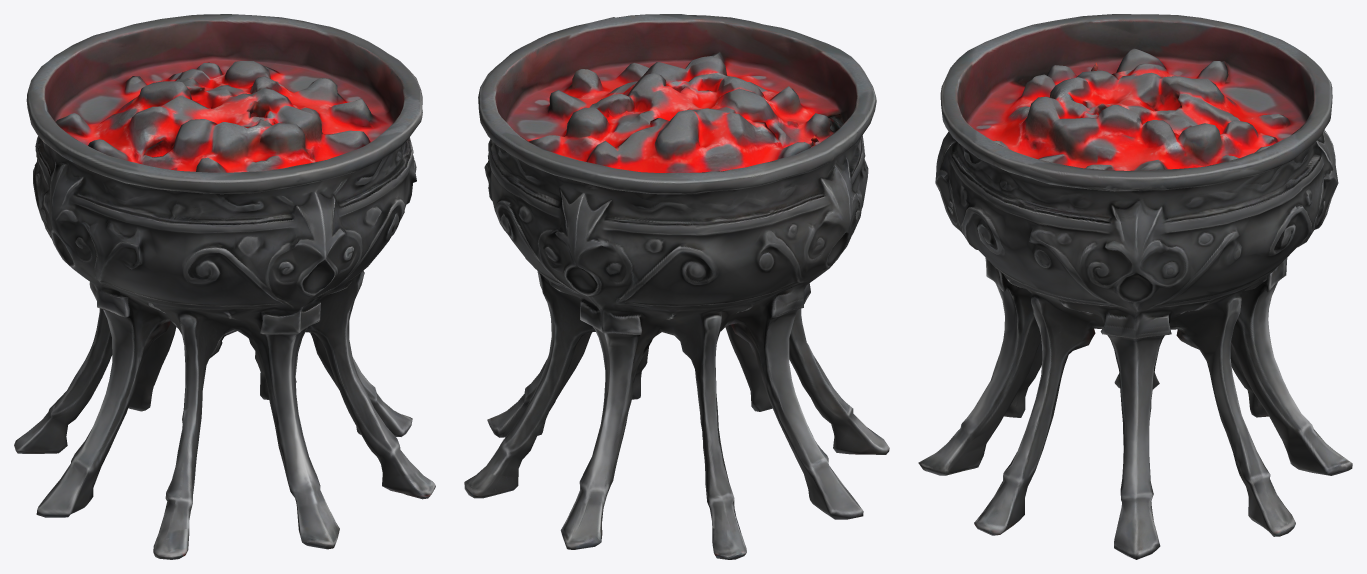
The model's file is brazier.glb.
The picture shows the model from 3 angles, left to right: view 1: azimuth 30°, elevation 25°; view 2: azimuth 150°, elevation 25°; view 3: azimuth 270°, elevation 25°; orthographic projection.
Bounding box in the file's own units: 2 × 1.94 × 2.
1 material, 1 textured.
